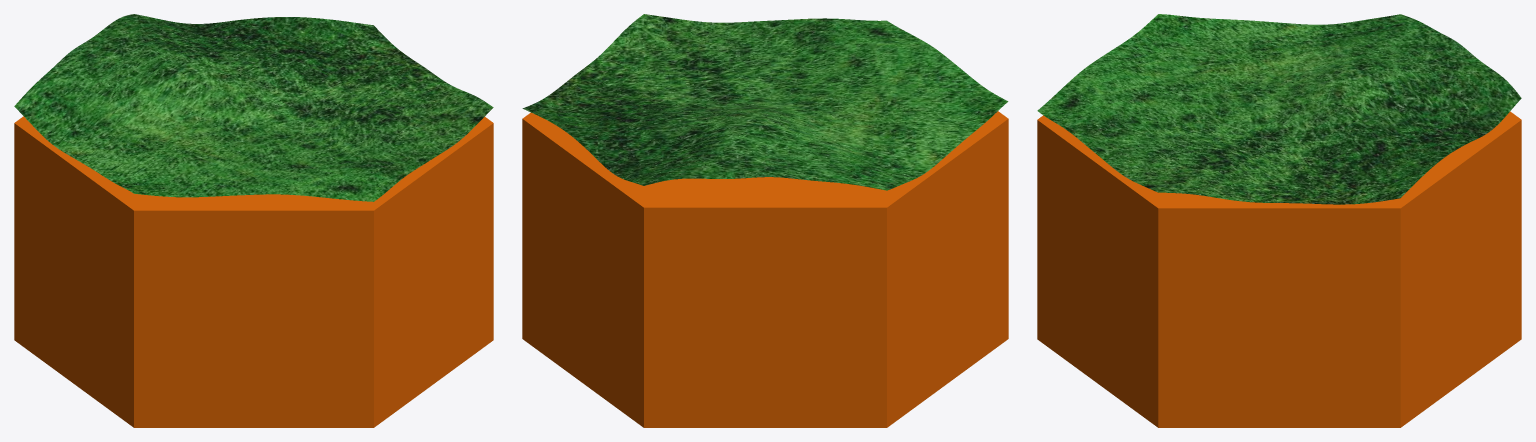
File: Plains.fbx
3 renders of one model, left to right at view 1: azimuth 30°, elevation 25°; view 2: azimuth 150°, elevation 25°; view 3: azimuth 270°, elevation 25°, orthographic.
Visible parts, largest first — view 1: Plain2, Plain1; view 2: Plain2, Plain1; view 3: Plain2, Plain1.
Boxes of the visible parts, x1,y1,x2,y2 form: Plain2: [14, 116, 493, 427]; Plain1: [14, 14, 493, 201]; Plain2: [522, 111, 1008, 427]; Plain1: [522, 14, 1008, 190]; Plain2: [1037, 111, 1521, 427]; Plain1: [1037, 14, 1521, 204].
Size of the model in its own units: 173 by 200 by 115.
